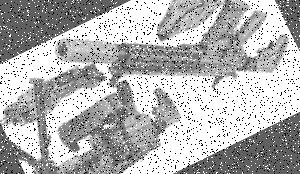rifle: (40, 0, 300, 174)
